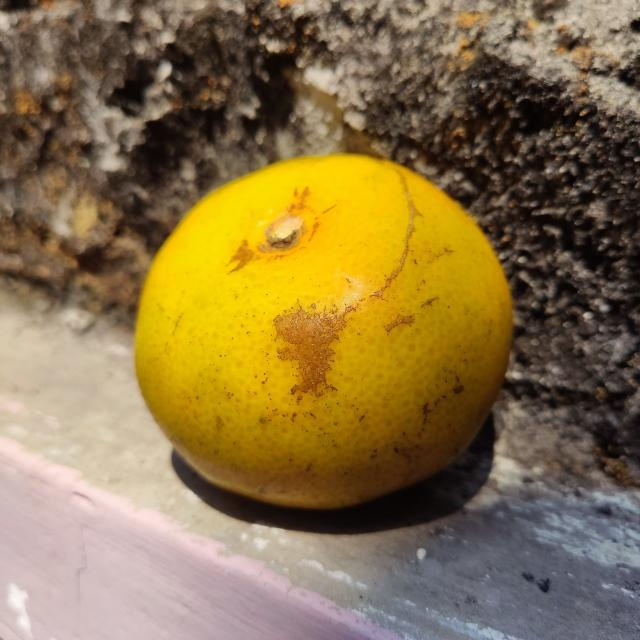agrume: (133, 153, 514, 512)
